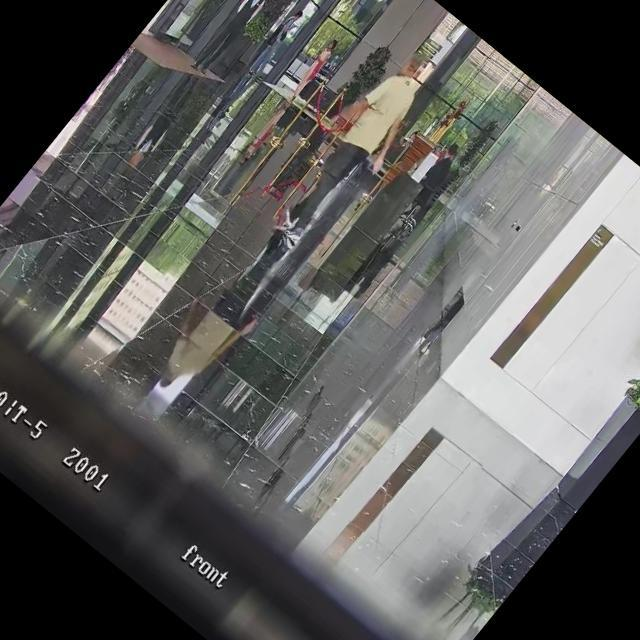person: (260, 39, 454, 260), (189, 0, 281, 77), (243, 4, 309, 81), (282, 36, 342, 106), (420, 142, 466, 191)
